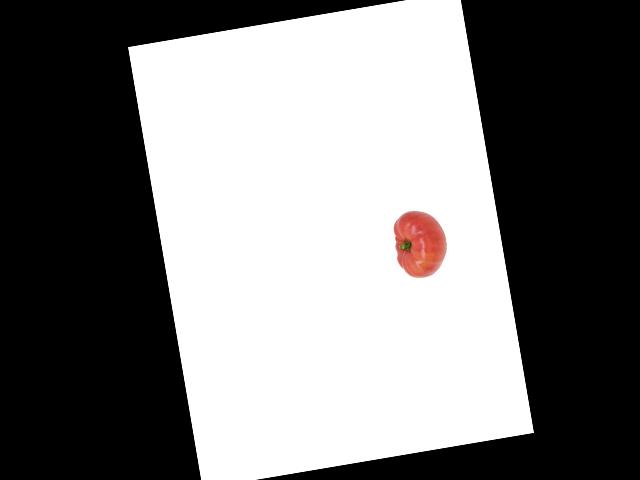tomato: (391, 206, 451, 281)
